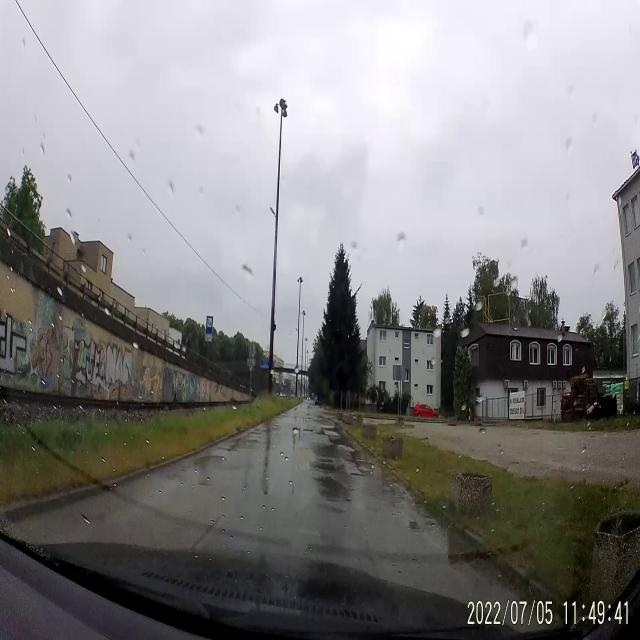Manhole: (194, 451, 227, 473)
Pothole: (314, 471, 346, 504), (340, 451, 376, 477), (302, 423, 314, 437)
